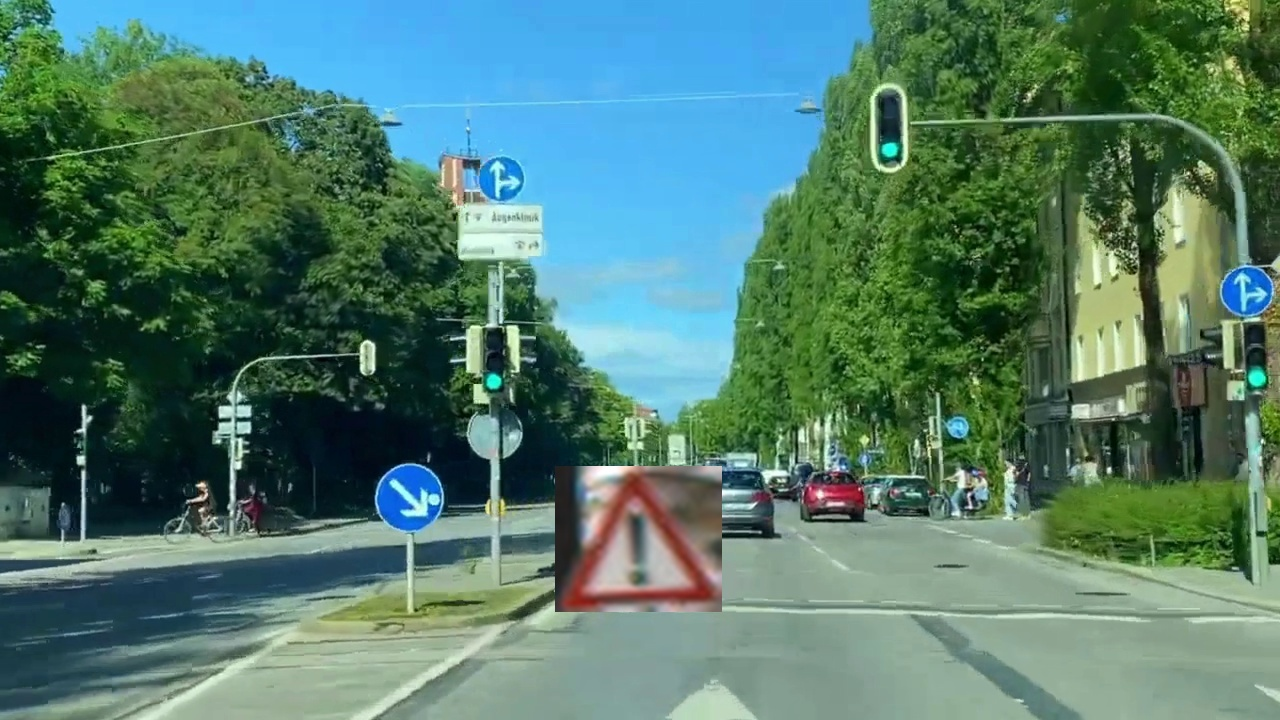Caution: (555, 466, 722, 612)
